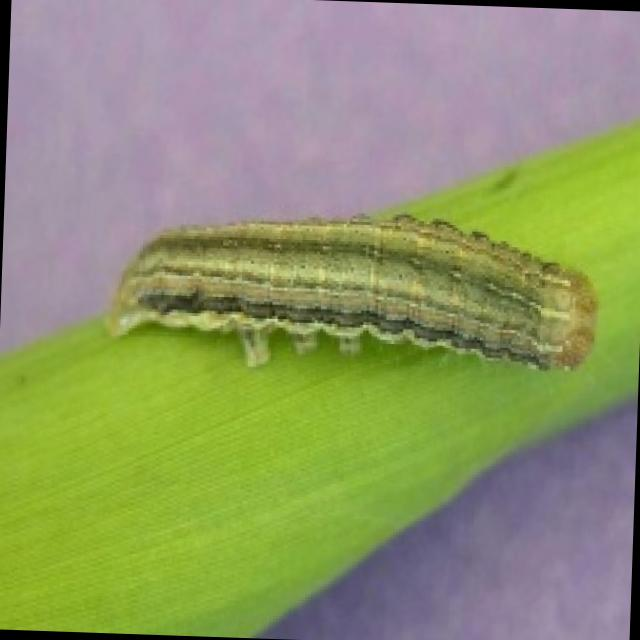armyworm: (96, 191, 619, 386)
